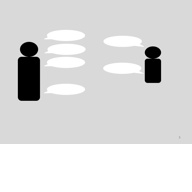left_speech: (41, 80, 89, 98), (42, 27, 87, 42), (43, 55, 87, 68), (42, 43, 88, 55)
right_speech: (101, 32, 144, 49), (101, 59, 143, 76)
